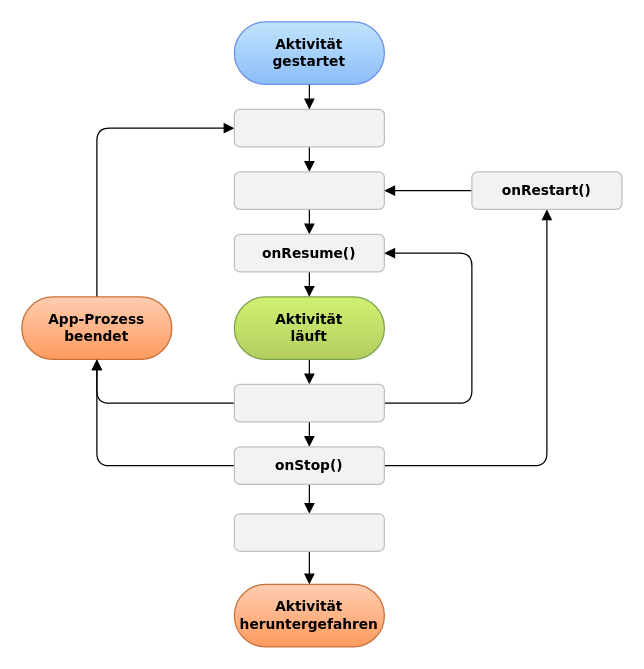
Image size: 644x669. Some labels were removed from this diagram. The box of each missing label's shape, as (x1, y1, x2, y2) in pixels:
onCreate(): (233, 108, 384, 147)
onDestroy(): (233, 512, 384, 551)
onPause(): (233, 383, 384, 422)
onStart(): (233, 171, 384, 209)
